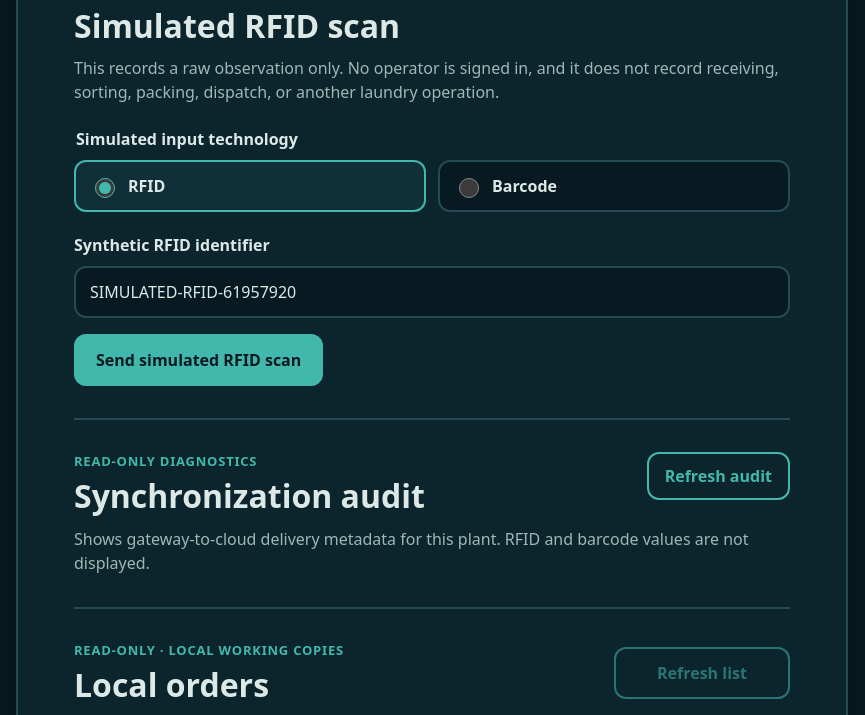
Test case: station application foundation › allows correction after a definite rejection
(page scrolled)
What coordinates should you click on to do the following:
click the button "Send simulated RFID scan"
I would click on:
 (199, 360)
Its box is [74,334,323,386].
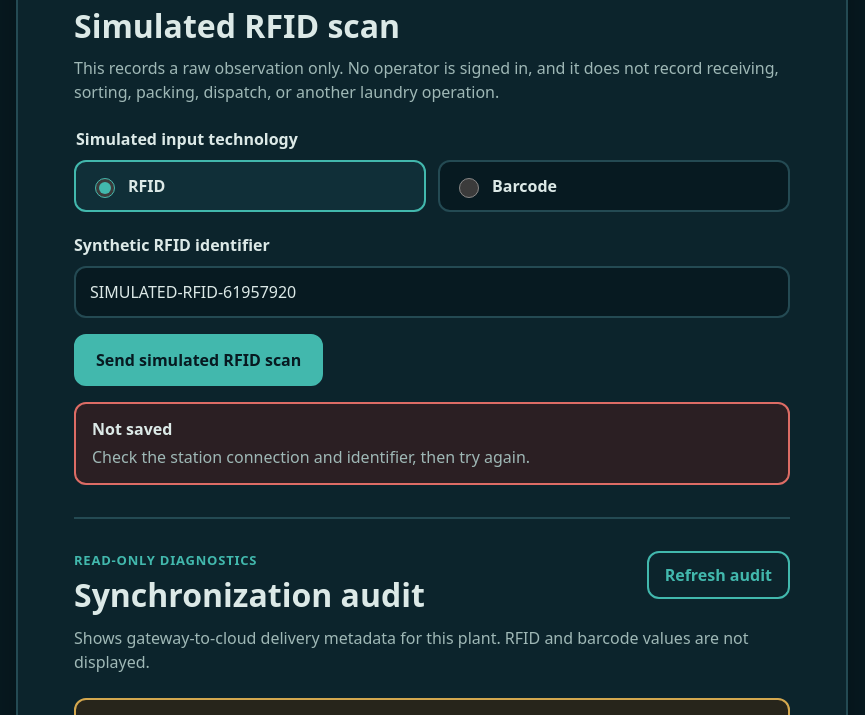
Expected: the field labelled "Synthetic RFID identifier" is enabled, [74,266,790,318]
Now the message "Not saved Check the station connection and identifier, then try again." is shown, box [74,402,790,485]
